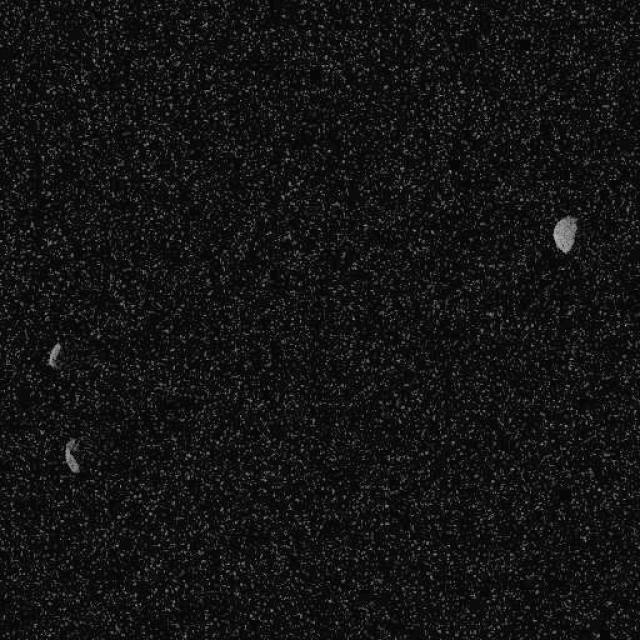D2: (552, 214, 578, 254), (62, 436, 82, 474), (45, 340, 63, 370)
